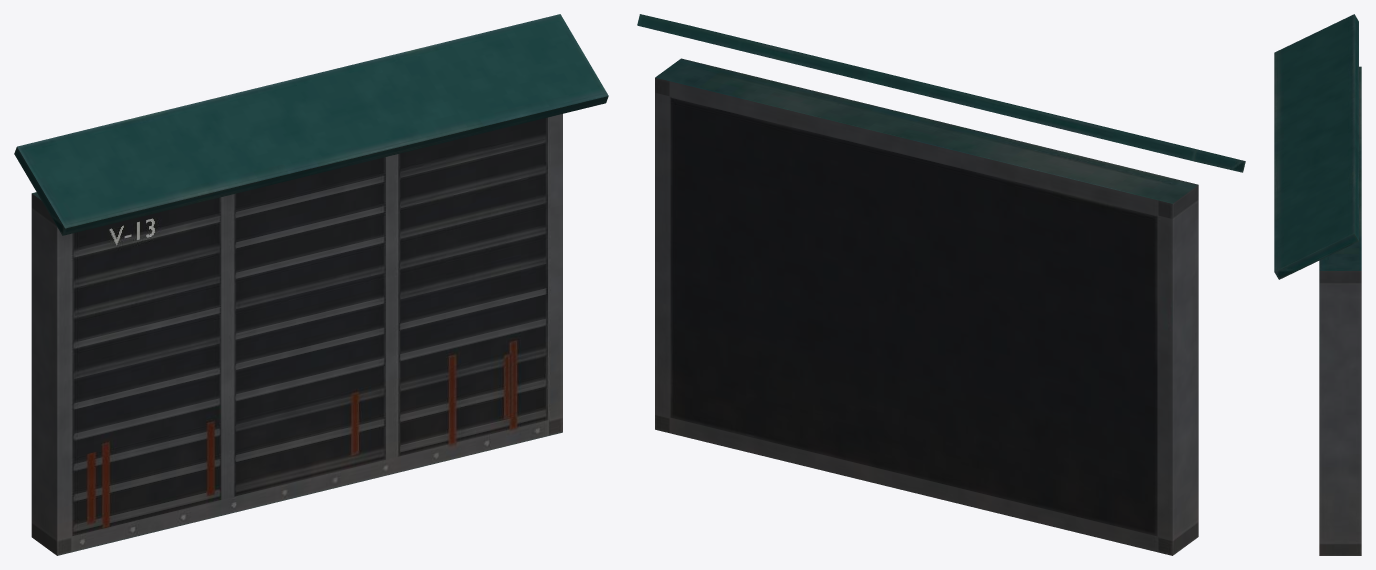
Rendered from hull_vent.glb.
The picture shows the model from 3 angles, left to right: view 1: azimuth 30°, elevation 25°; view 2: azimuth 150°, elevation 25°; view 3: azimuth 270°, elevation 25°; orthographic projection. The views are drawn at different scales.
Parts seen in each view (by area): view 1: hull_vent; view 2: hull_vent; view 3: hull_vent.
Boxes of the visible parts, x1,y1,x2,y2 form: hull_vent: (14, 14, 608, 555); hull_vent: (637, 14, 1245, 555); hull_vent: (1274, 14, 1361, 555).
Bounding box in the file's own units: 4.3 × 3.01 × 0.7199.
1 material, 1 textured.
